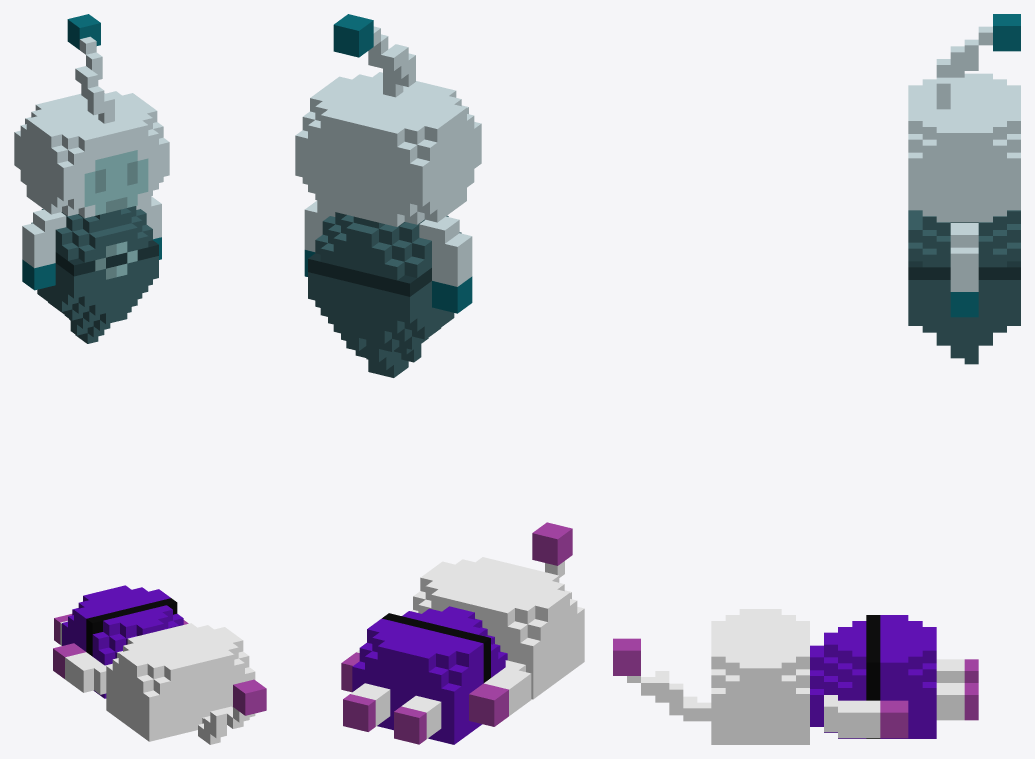
The model's file is bboi_die4.obj.
3 renders of one model, left to right at view 1: azimuth 30°, elevation 25°; view 2: azimuth 150°, elevation 25°; view 3: azimuth 270°, elevation 25°, orthographic. The views are drawn at different scales.
Visible parts, largest first — view 1: bboi_die4; view 2: bboi_die4; view 3: bboi_die4.
Boxes of the visible parts, x1,y1,x2,y2 form: bboi_die4: (14, 14, 266, 744); bboi_die4: (295, 14, 584, 744); bboi_die4: (613, 14, 1020, 744).
Size of the model in its own units: 12 by 55 by 29.
Materials: 1 (1 with a texture image).
